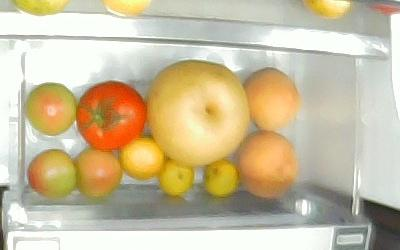peach: (232, 130, 297, 197), (241, 65, 300, 132)
pear: (142, 58, 250, 166)
tangerine: (117, 135, 165, 180), (201, 159, 238, 196), (158, 158, 193, 196)
tomato: (75, 79, 147, 150), (23, 81, 76, 135), (25, 147, 76, 198), (72, 145, 122, 197)
